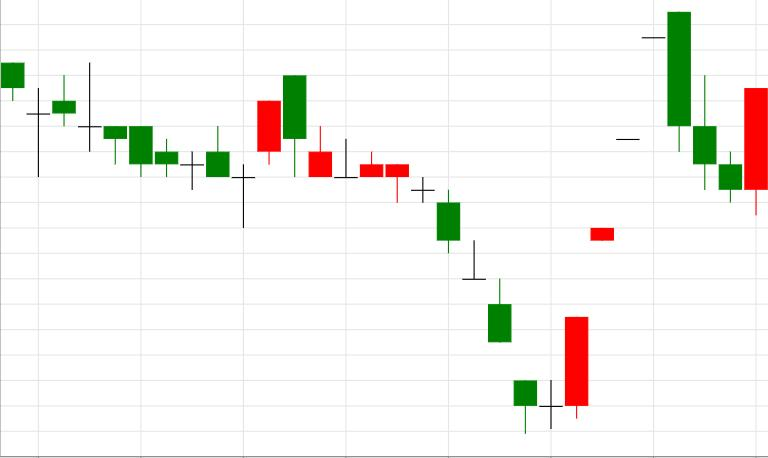bullish_engulfing_rise: (641, 11, 768, 216)
morning_star_rise: (411, 177, 589, 433), (52, 63, 281, 229)
